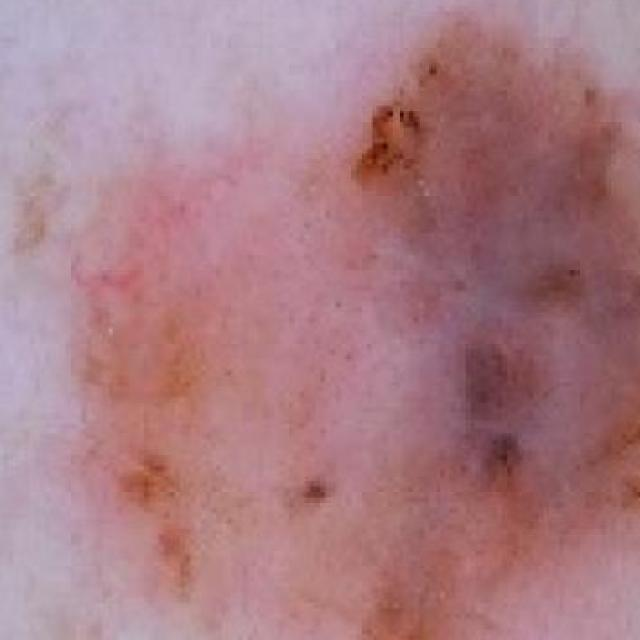MEL: (67, 7, 640, 640)
